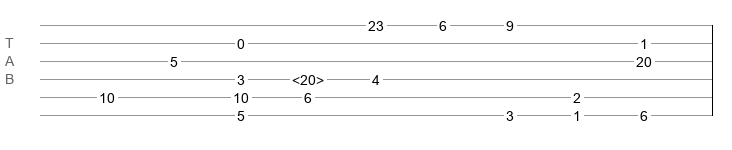0: (237, 36, 245, 46)
1: (573, 108, 581, 118), (640, 36, 648, 46)
10: (99, 90, 115, 100), (233, 90, 249, 100)
2: (573, 90, 581, 100)
20: (636, 54, 652, 64)
23: (368, 18, 384, 28)
3: (237, 72, 245, 82), (506, 108, 514, 118)
4: (372, 72, 380, 82)
5: (170, 54, 178, 64), (237, 108, 245, 118)
6: (304, 90, 312, 100), (439, 18, 447, 28), (640, 108, 648, 118)
9: (506, 18, 514, 28)
harmonic: (292, 72, 324, 82)
